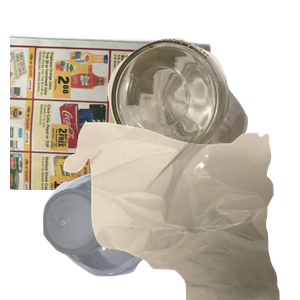glass: (105, 36, 300, 201)
paper: (10, 31, 214, 211)
plastic: (40, 170, 187, 300)
trash: (61, 120, 300, 300)
